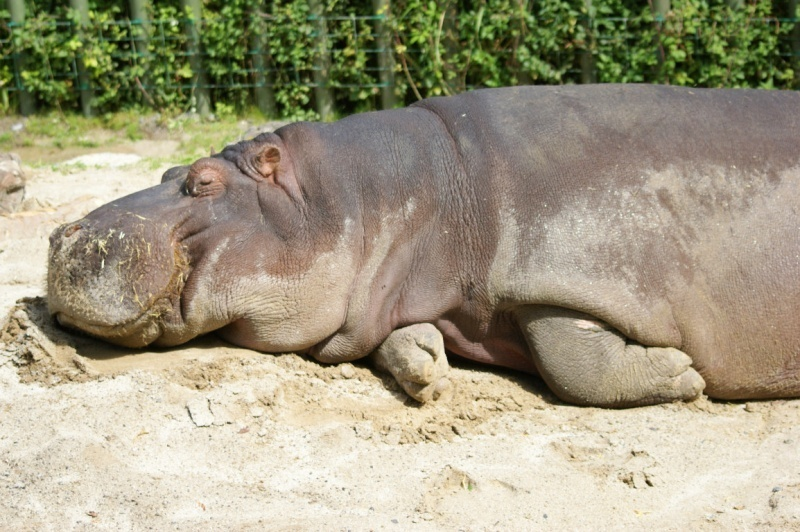hipopotamo: (25, 66, 800, 420)
